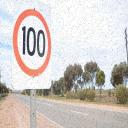speed_limit_100: (10, 0, 54, 92)
